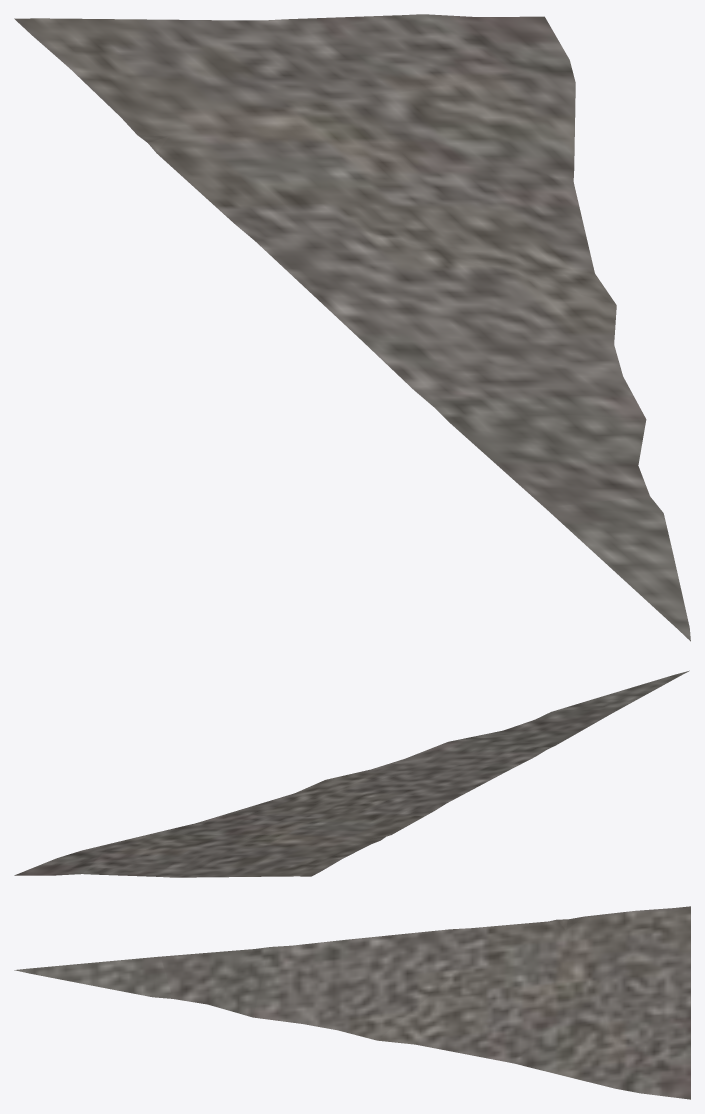
3 renders of one model, top to bottom at view 1: azimuth 30°, elevation 25°; view 2: azimuth 150°, elevation 25°; view 3: azimuth 270°, elevation 25°, orthographic. The views are drawn at different scales.
Size of the model in its own units: 0.4507 by 0.1035 by 0.9956.
Materials: 1 (1 with a texture image).
